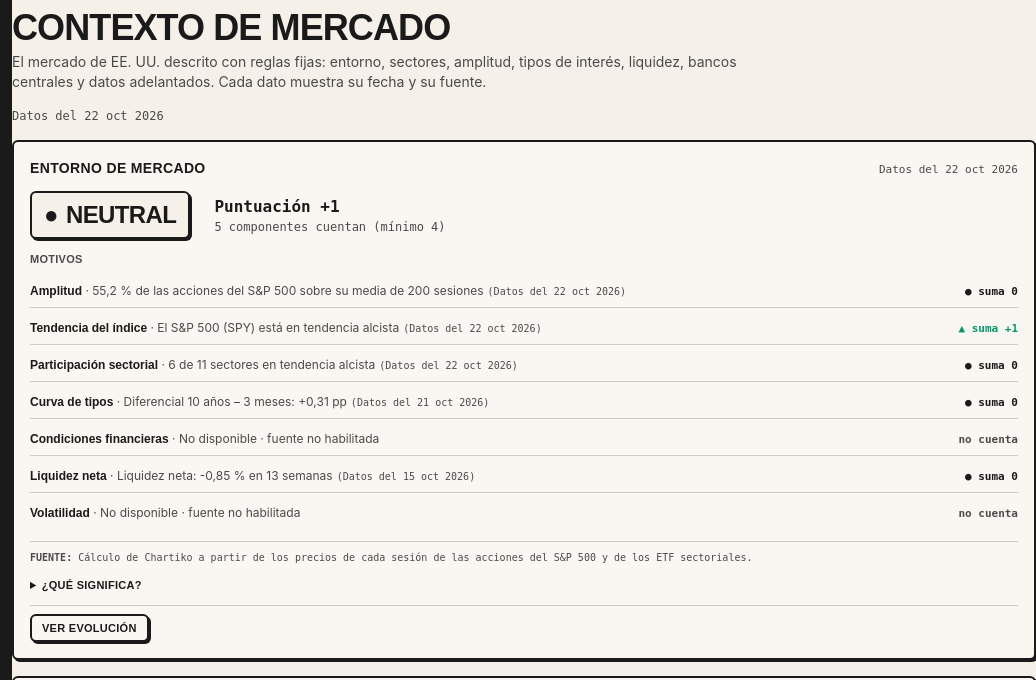
Test: MarketPage history (Scenario 2: Registered User) › fetches the regime history on open and on the 3-year toggle
Click the button "Ver evolución" at (89, 628), box [30,614,149,642]
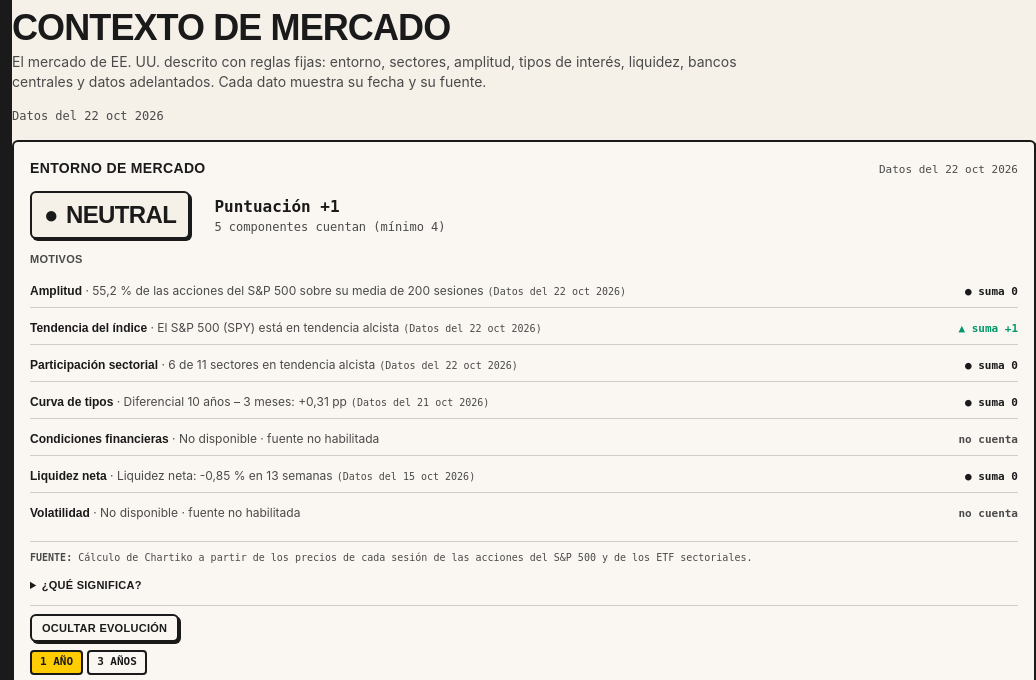
Expected: the text "Datos disponibles desde" is not shown
Expected: the button "Ocultar evolución" is expanded, [30,614,179,642]
Click the button "3 años" at (117, 662), box [87,650,147,675]
(page scrolled)
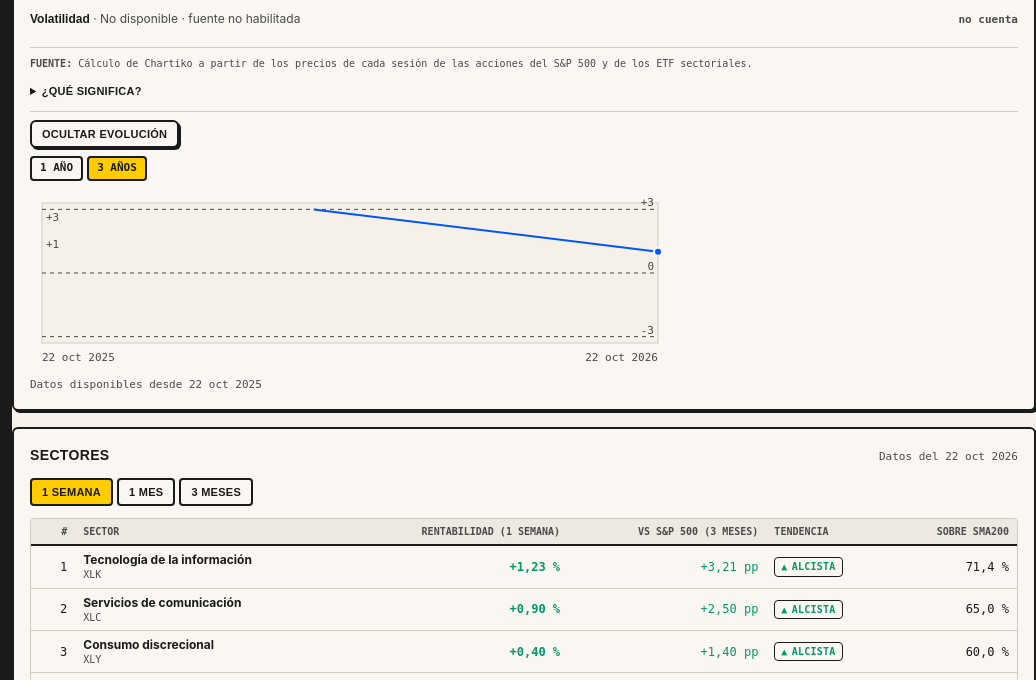
Expected: the text "Datos disponibles desde 22 oct 2025" is shown, [30,378,262,391]
